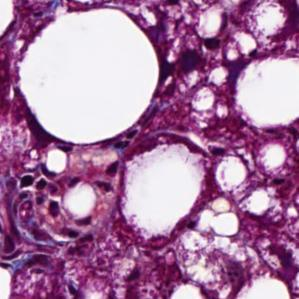inflammation: (13, 170, 66, 224), (175, 44, 217, 84)
